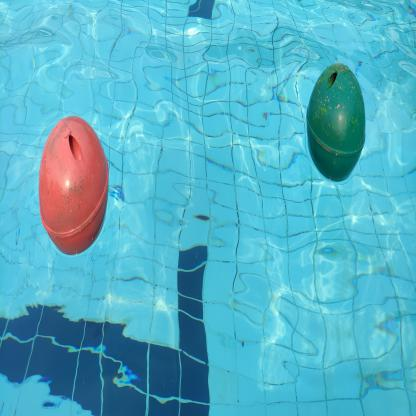green_buoy: (303, 60, 369, 189)
red_buoy: (36, 110, 112, 258)
